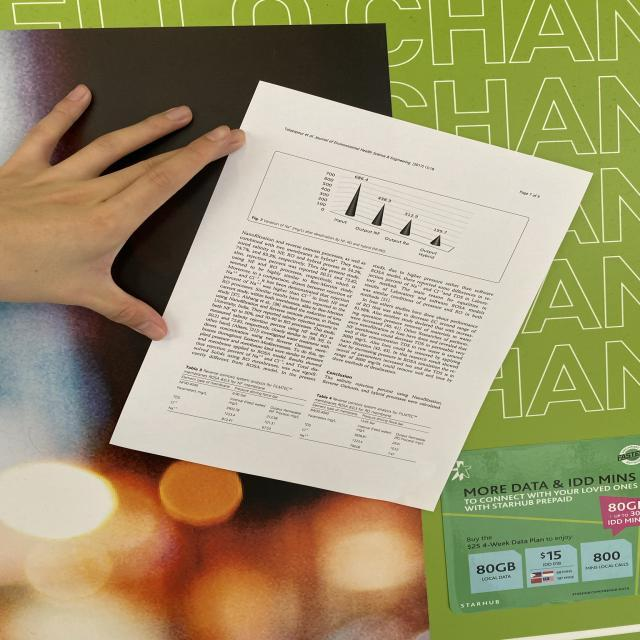document: (112, 82, 590, 510)
